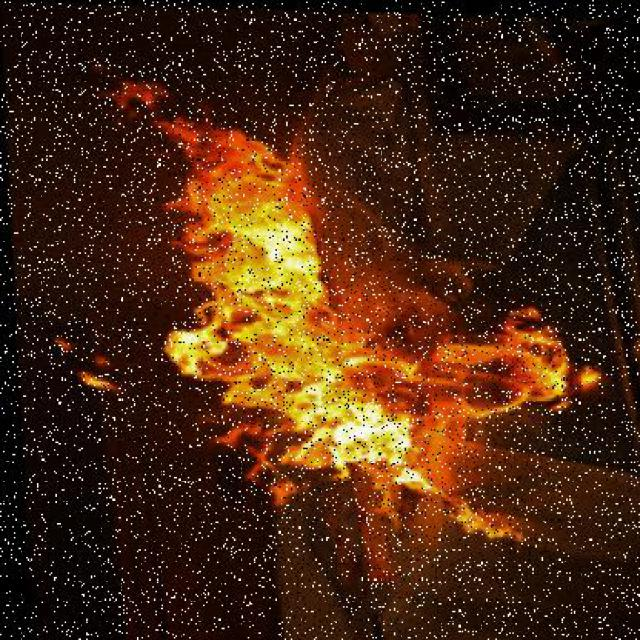fire: (75, 46, 416, 521)
